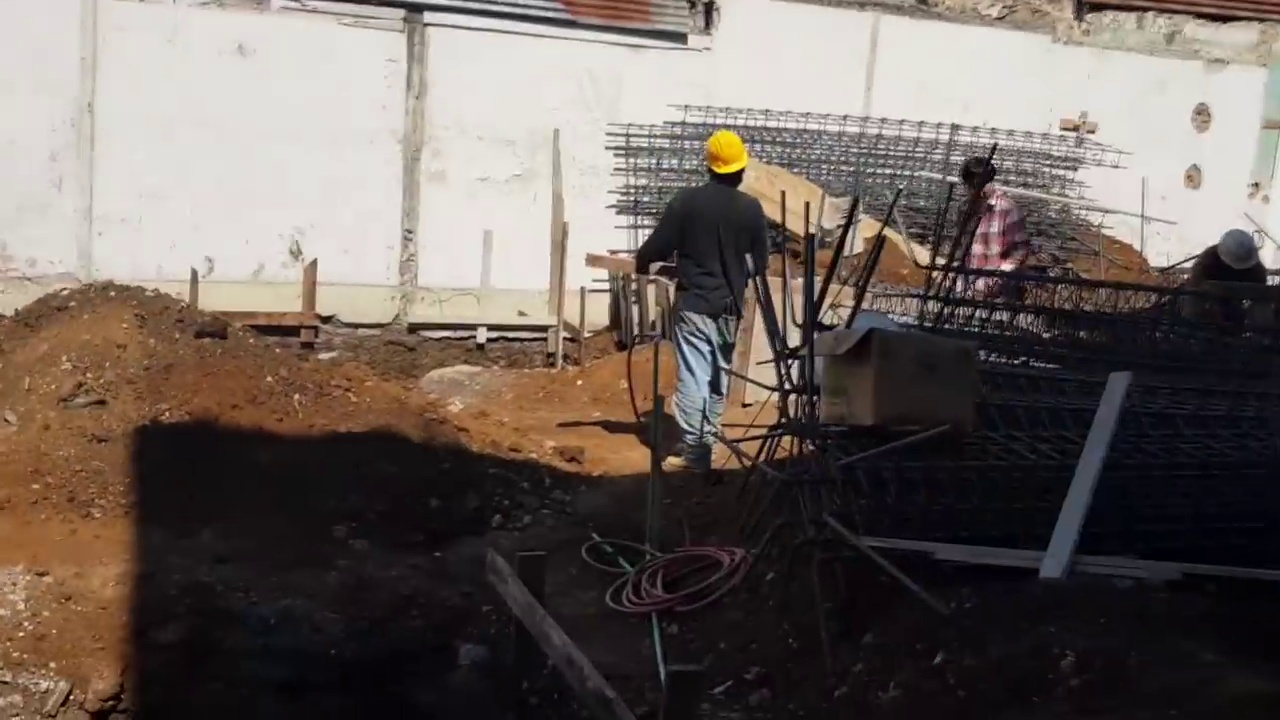helmet: (704, 131, 750, 175), (1215, 229, 1260, 271)
helmet-off: (959, 149, 998, 199)
helmet-on: (701, 125, 753, 191), (1209, 226, 1258, 275)
person: (636, 123, 769, 480), (942, 147, 1029, 312), (1190, 226, 1268, 303)
